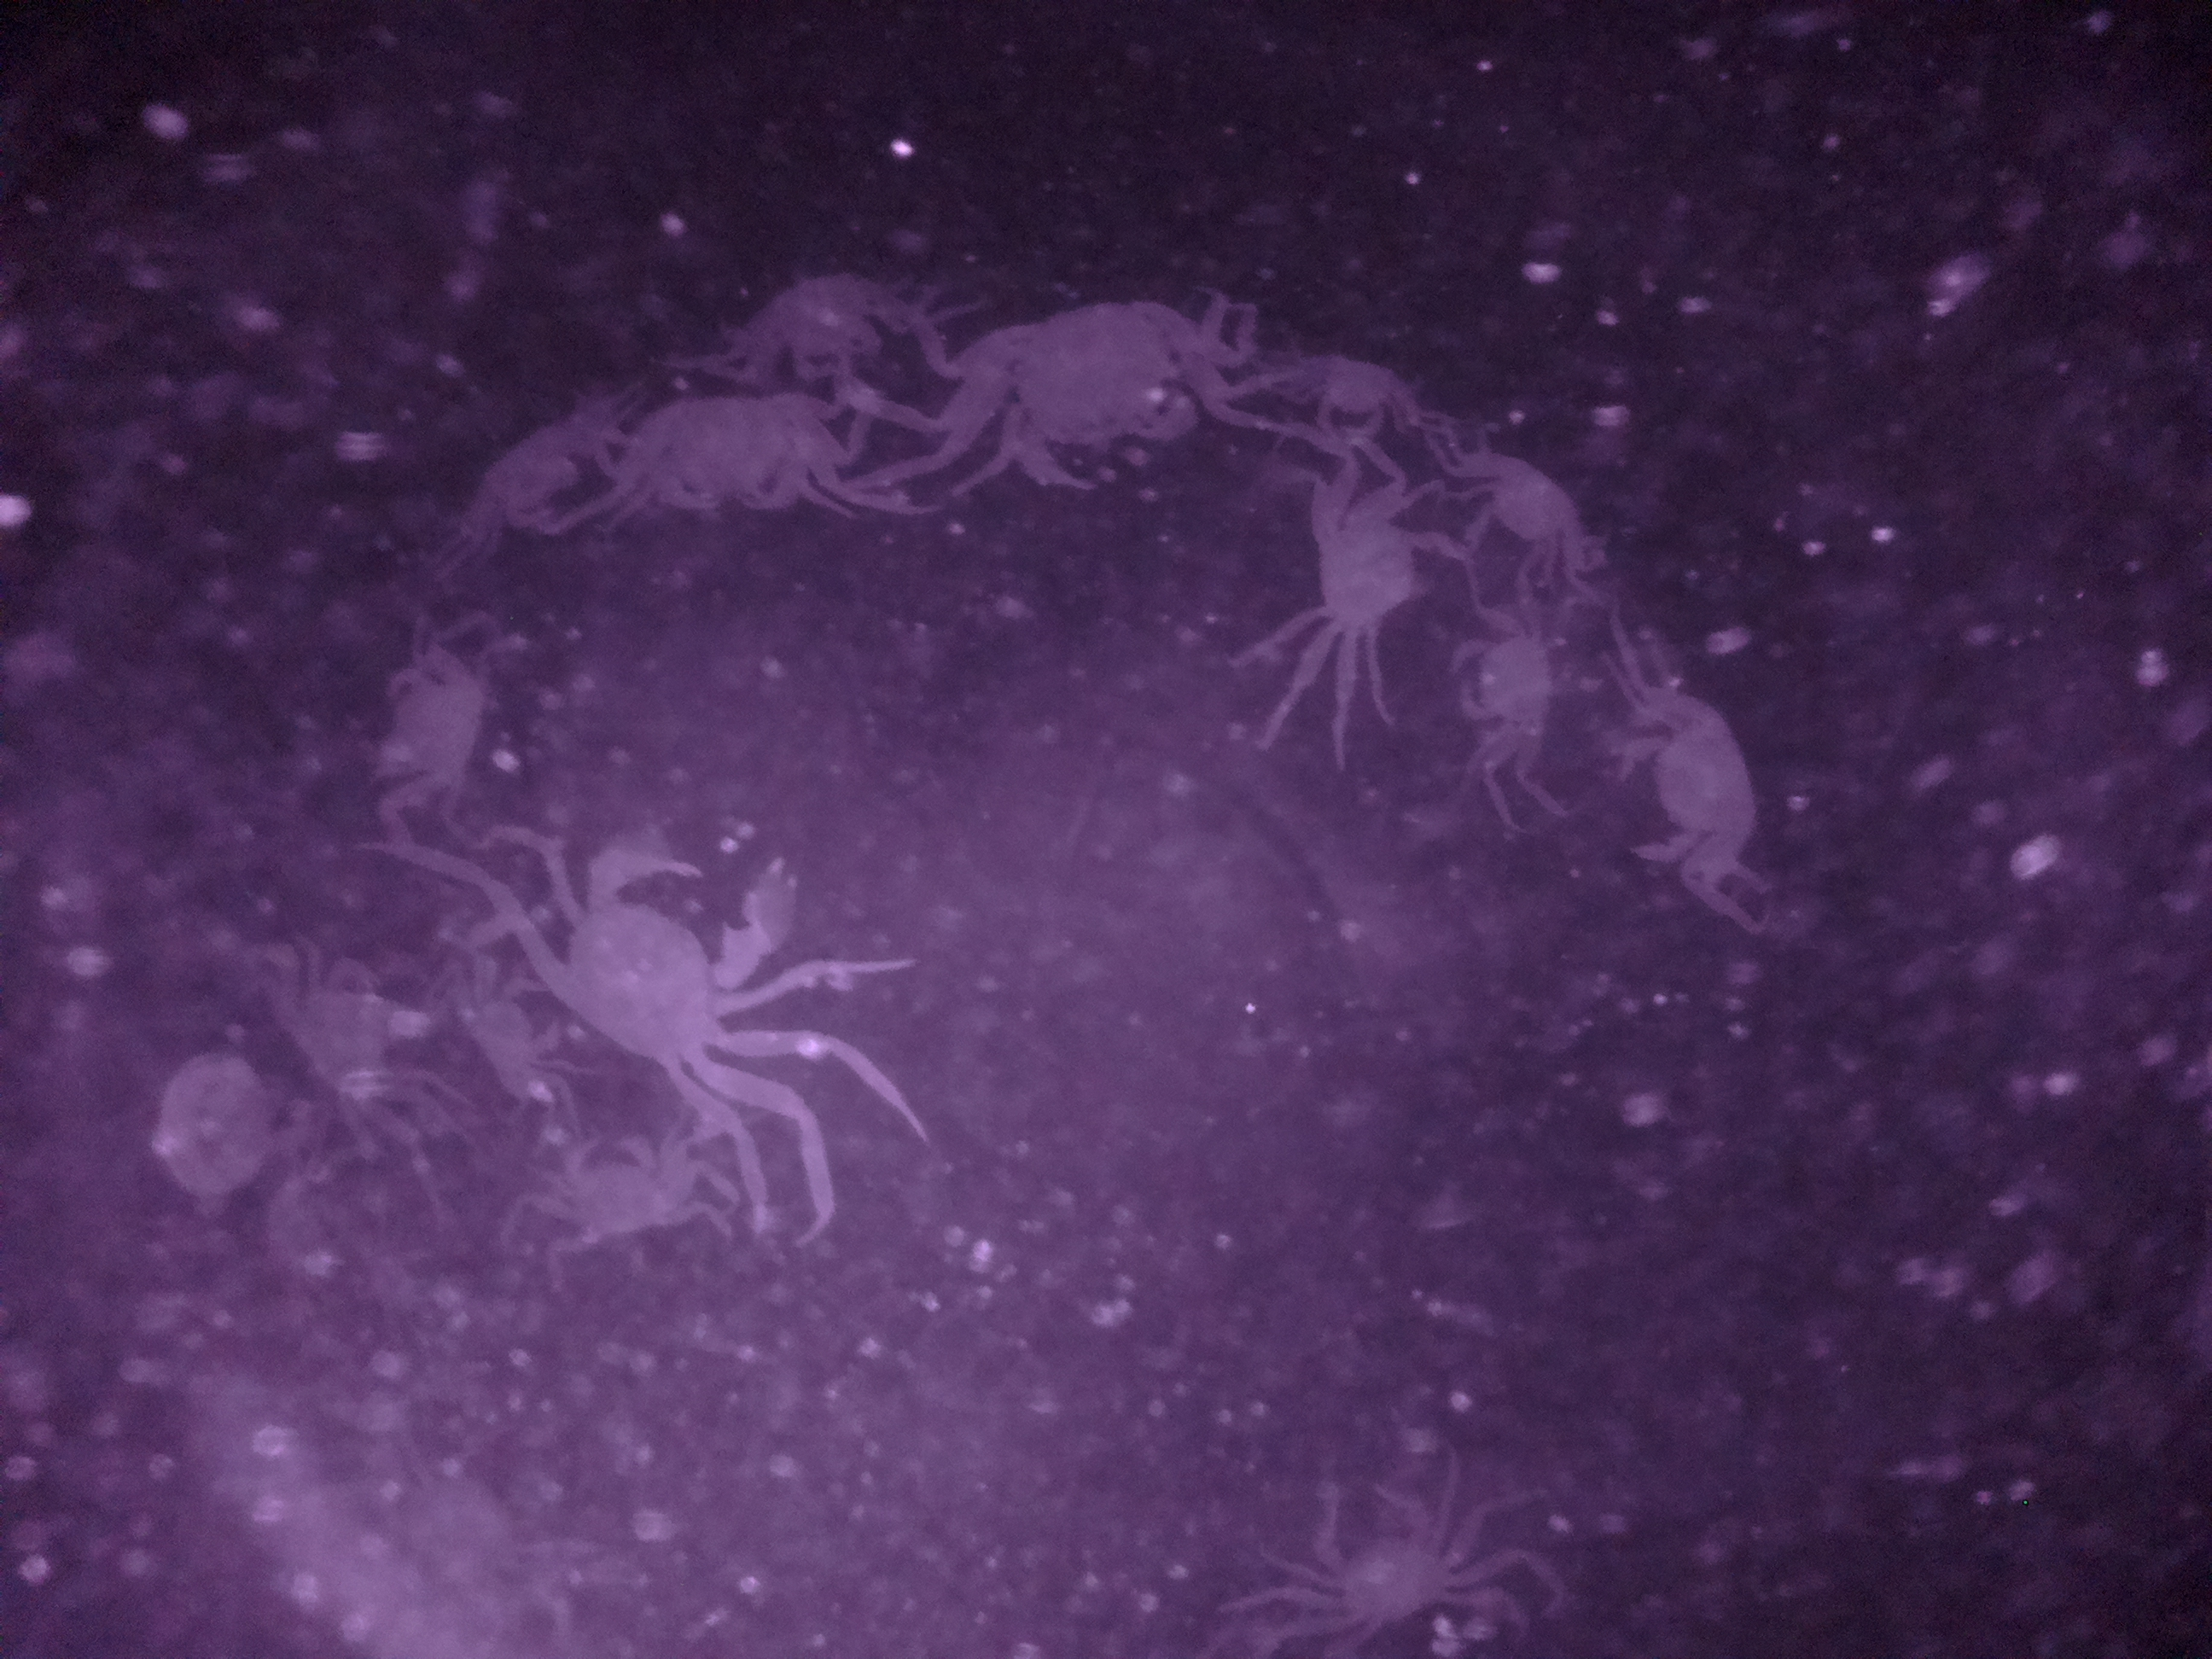Crab: (970, 277, 1258, 498), (604, 350, 885, 538), (1275, 1466, 1505, 1652), (1282, 437, 1446, 685), (1616, 655, 1773, 894), (510, 1108, 704, 1258), (1435, 587, 1566, 784), (1467, 392, 1588, 596), (373, 636, 505, 809)
